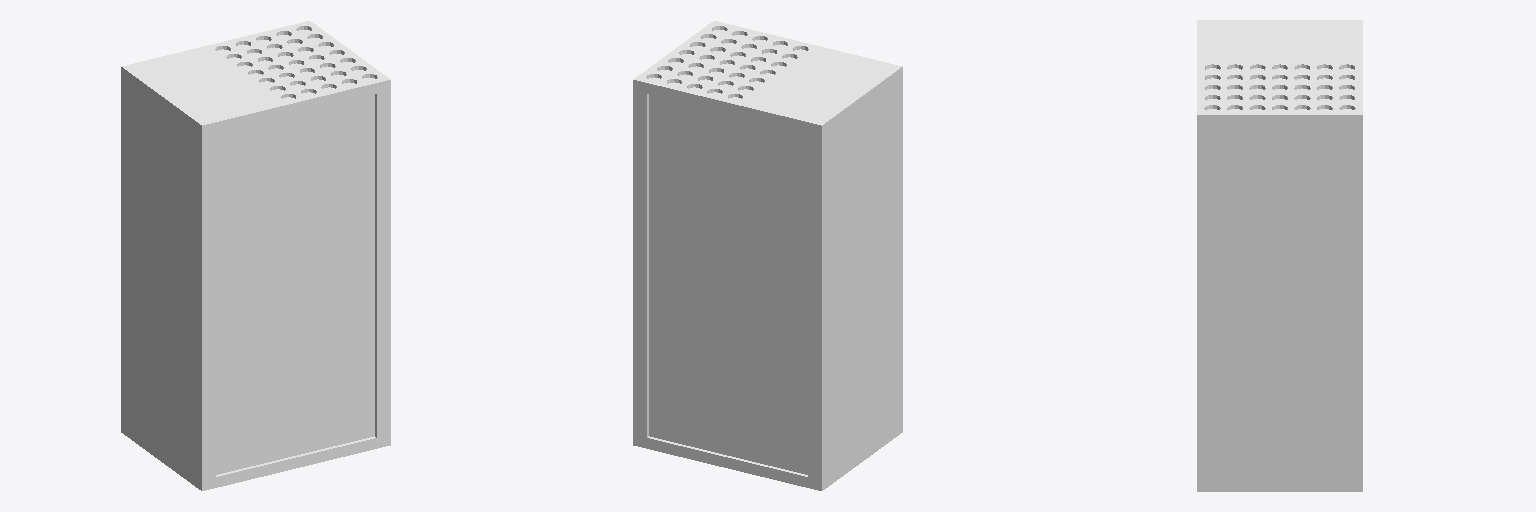
URDF robot description (agv2):
<?xml version="1.0" encoding="utf-8"?>
<!-- This URDF was automatically created by SolidWorks to URDF Exporter! Originally created by [author] ([email redacted]) 
     Commit Version: 1.6.0-4-g7f85cfe  Build Version: 1.6.7995.38578
     For more information, please see http://wiki.ros.org/sw_urdf_exporter -->
<robot
  name="agv2">
  <link
    name="base_link">
    <inertial>
      <origin
        xyz="0.28857 -0.40803 0.27532"
        rpy="0 0 0" />
      <mass
        value="36.72" />
      <inertia
        ixx="0.60468"
        ixy="4.2841E-06"
        ixz="8.6355E-09"
        iyy="1.0089"
        iyz="5.0394E-10"
        izz="1.4554" />
    </inertial>
    <visual>
      <origin
        xyz="0 0 0"
        rpy="0 0 0" />
      <geometry>
        <mesh
          filename="package://agv2/meshes/base_link.STL" />
      </geometry>
      <material
        name="">
        <color
          rgba="1 1 1 1" />
      </material>
    </visual>
    <collision>
      <origin
        xyz="0 0 0"
        rpy="0 0 0" />
      <geometry>
        <mesh
          filename="package://agv2/meshes/base_link.STL" />
      </geometry>
    </collision>
  </link>
  <link
    name="base">
    <inertial>
      <origin
        xyz="1.6653E-16 0.50105 -0.00024658"
        rpy="0 0 0" />
      <mass
        value="206.91" />
      <inertia
        ixx="22.343"
        ixy="2.7729E-16"
        ixz="7.9479E-16"
        iyy="7.6333"
        iyz="-0.025308"
        izz="19.801" />
    </inertial>
    <visual>
      <origin
        xyz="0 0 0"
        rpy="0 0 0" />
      <geometry>
        <mesh
          filename="package://agv2/meshes/base.STL" />
      </geometry>
      <material
        name="">
        <color
          rgba="1 1 1 1" />
      </material>
    </visual>
    <collision>
      <origin
        xyz="0 0 0"
        rpy="0 0 0" />
      <geometry>
        <mesh
          filename="package://agv2/meshes/base.STL" />
      </geometry>
    </collision>
  </link>
  <joint
    name="joint1"
    type="fixed">
    <origin
      xyz="0.28857 -0.40803 1.3574"
      rpy="-1.5708 0 -1.5708" />
    <parent
      link="base_link" />
    <child
      link="base" />
    <axis
      xyz="0 0 0" />
  </joint>
</robot>

--- Facts derived from the render (not from the file) ---
The picture shows the robot from 3 angles, left to right: view 1: azimuth 30°, elevation 25°; view 2: azimuth 150°, elevation 25°; view 3: azimuth 270°, elevation 25°; orthographic projection.
Model agv2 with 2 links and 1 joints (1 fixed), rooted at base_link, posed all joints at 0.
Links seen in each view (by area): view 1: base; view 2: base; view 3: base.
Link boxes in pixels (x1=…): base: x1=121, y1=21, x2=390, y2=490; base: x1=633, y1=21, x2=902, y2=490; base: x1=1197, y1=20, x2=1362, y2=491.
Size in the robot's own frame: 0.54 by 0.4 by 1 metres.
1 mesh visuals loaded from 2 distinct referenced files (1 binary STL); not drawn: 1 (reference not matched to a file when rendering).